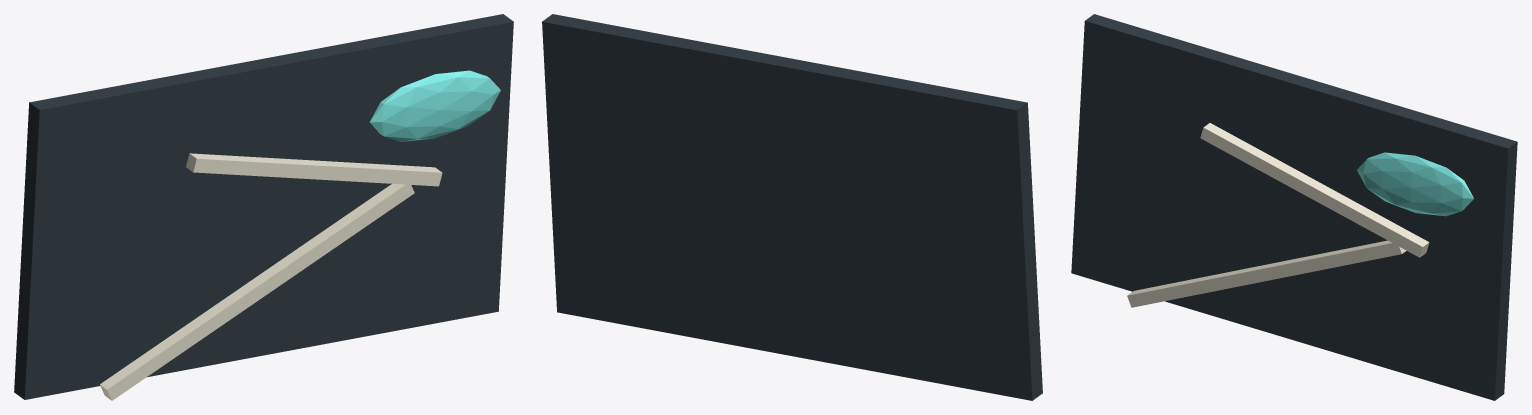
Rendered from 02_weathering_wear_overlay_2.glb.
The picture shows the model from 3 angles, left to right: view 1: azimuth 30°, elevation 25°; view 2: azimuth 150°, elevation 25°; view 3: azimuth 330°, elevation 25°; orthographic projection. The views are drawn at different scales.
Parts seen in each view (by area): view 1: wear_plate, scratch_a, rust_or_moss_spot, scratch_b; view 2: wear_plate; view 3: wear_plate, rust_or_moss_spot, scratch_b, scratch_a.
Part boxes in pixels (x1,y1,x2,y2): wear_plate: (14, 14, 513, 399); scratch_a: (100, 184, 414, 400); rust_or_moss_spot: (369, 70, 500, 141); scratch_b: (186, 153, 442, 186); wear_plate: (542, 14, 1042, 400); wear_plate: (1071, 14, 1517, 400); rust_or_moss_spot: (1357, 152, 1473, 216); scratch_b: (1200, 123, 1429, 257); scratch_a: (1127, 240, 1406, 307).
Size of the model in its own units: 1.34 by 0.8202 by 0.134.
